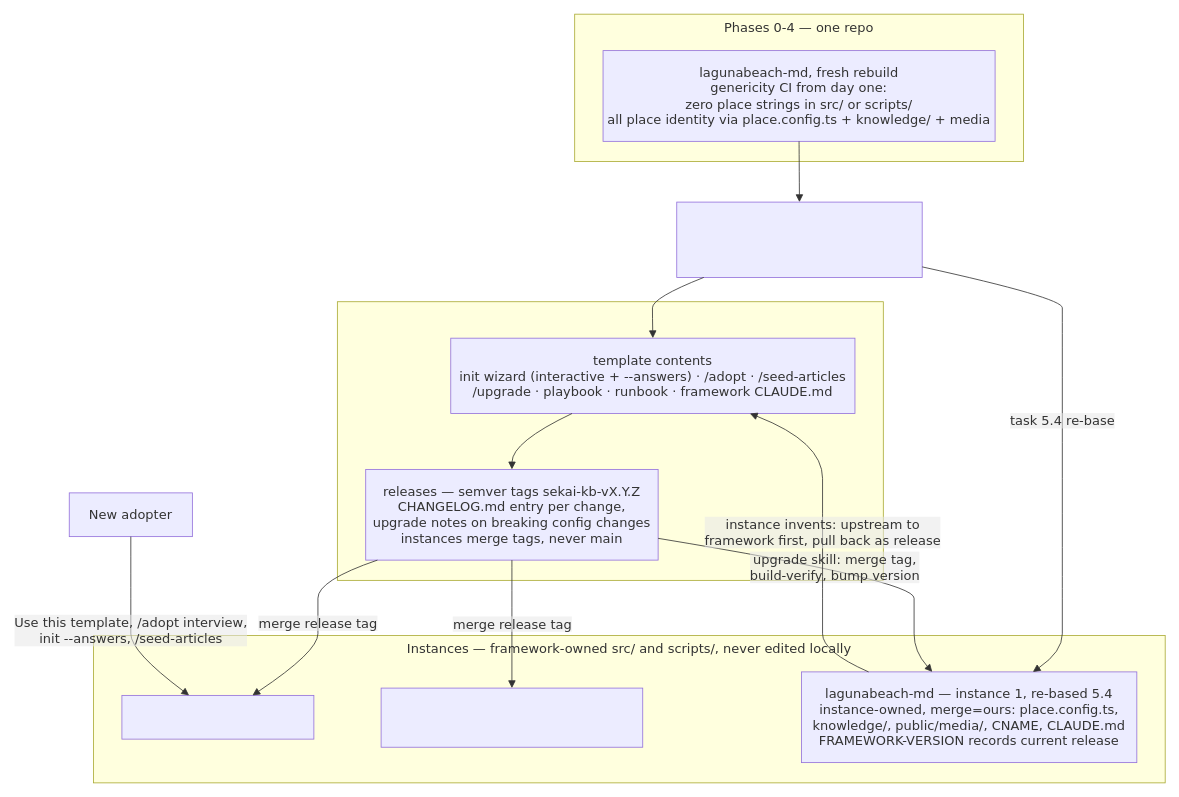
Some shapes in this 1179 by 797 pixel diagram are drawn without their labels. The box of each missing label's shape, as (x1, y1, x2, y2) in pixels:
dana-point — 5.2c end-to-end proof, under 1 hour via /adopt: (380, 687, 643, 747)
future adopter instances: (121, 695, 314, 739)
Phase 5.1 cut strip LB content, fresh git history, fictional demo place seeded: (676, 201, 922, 277)
sekai-kb — framework SSOT, GitHub template repo: (337, 301, 883, 580)
